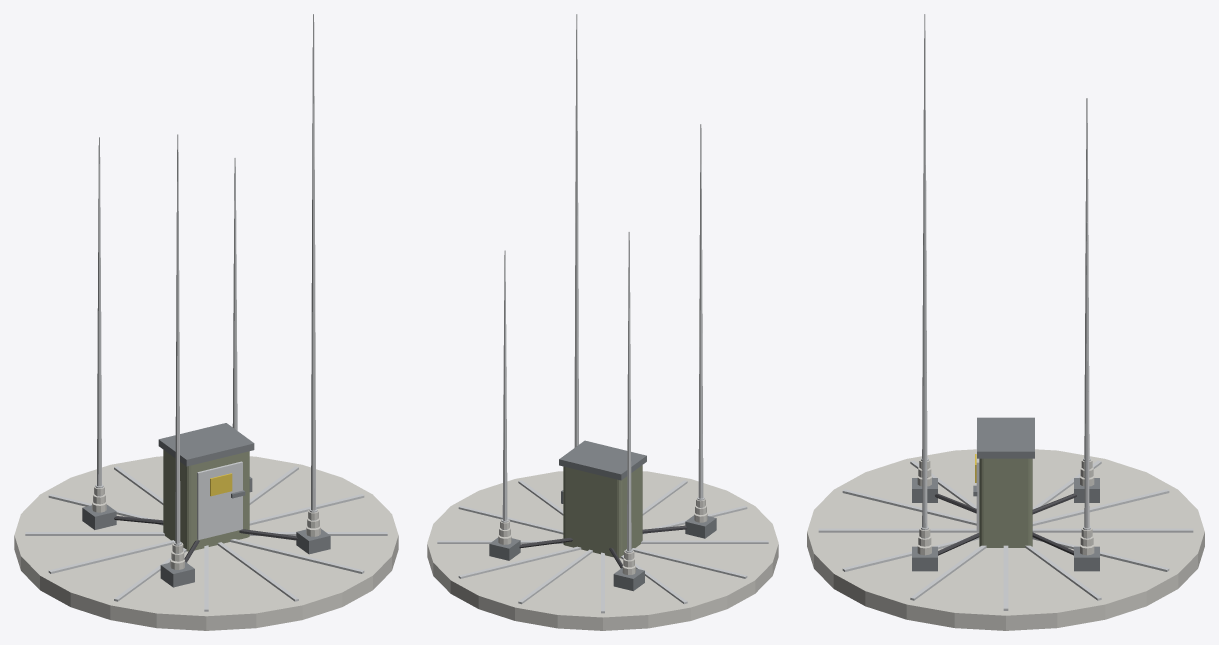
Rendered from cold-war-missile-silo-and-command-bunker-whip-antenna--4f7307c5__15676.glb.
3 renders of one model, left to right at view 1: azimuth 30°, elevation 25°; view 2: azimuth 150°, elevation 25°; view 3: azimuth 270°, elevation 25°, orthographic. The views are drawn at different scales.
Visible parts, largest first — view 1: whip-antenna-array; view 2: whip-antenna-array; view 3: whip-antenna-array.
Boxes of the visible parts, x1=… form: whip-antenna-array: x1=14, y1=14, x2=398, y2=630; whip-antenna-array: x1=427, y1=14, x2=778, y2=630; whip-antenna-array: x1=807, y1=14, x2=1204, y2=630.
Size of the model in its own units: 5.2 by 8.18 by 5.2.
